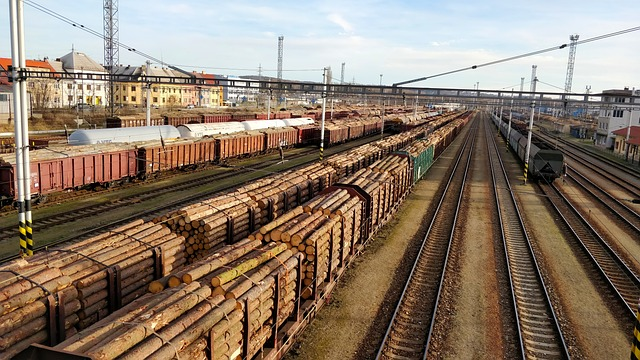voie1: (378, 119, 478, 356)
voie2: (483, 120, 567, 356)
voie3: (542, 189, 637, 313)
